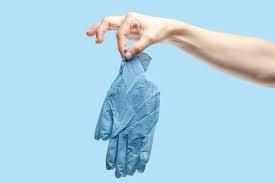Glove: (95, 53, 159, 176)
